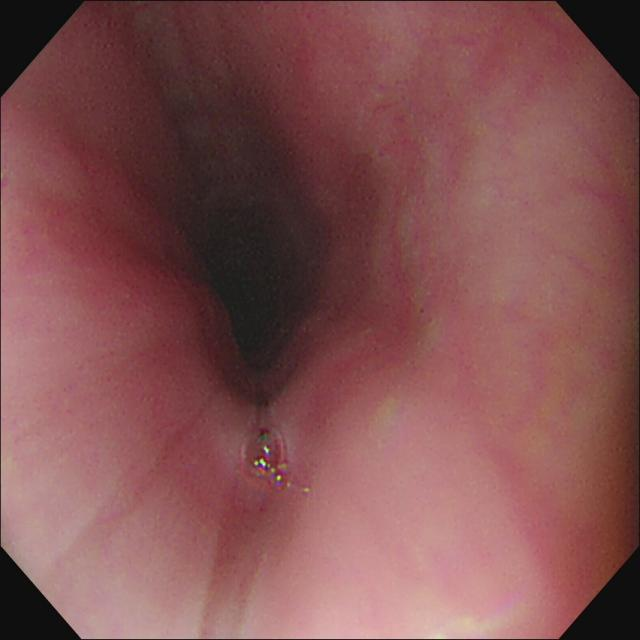E: (139, 105, 369, 419)
T: (239, 427, 291, 490)
